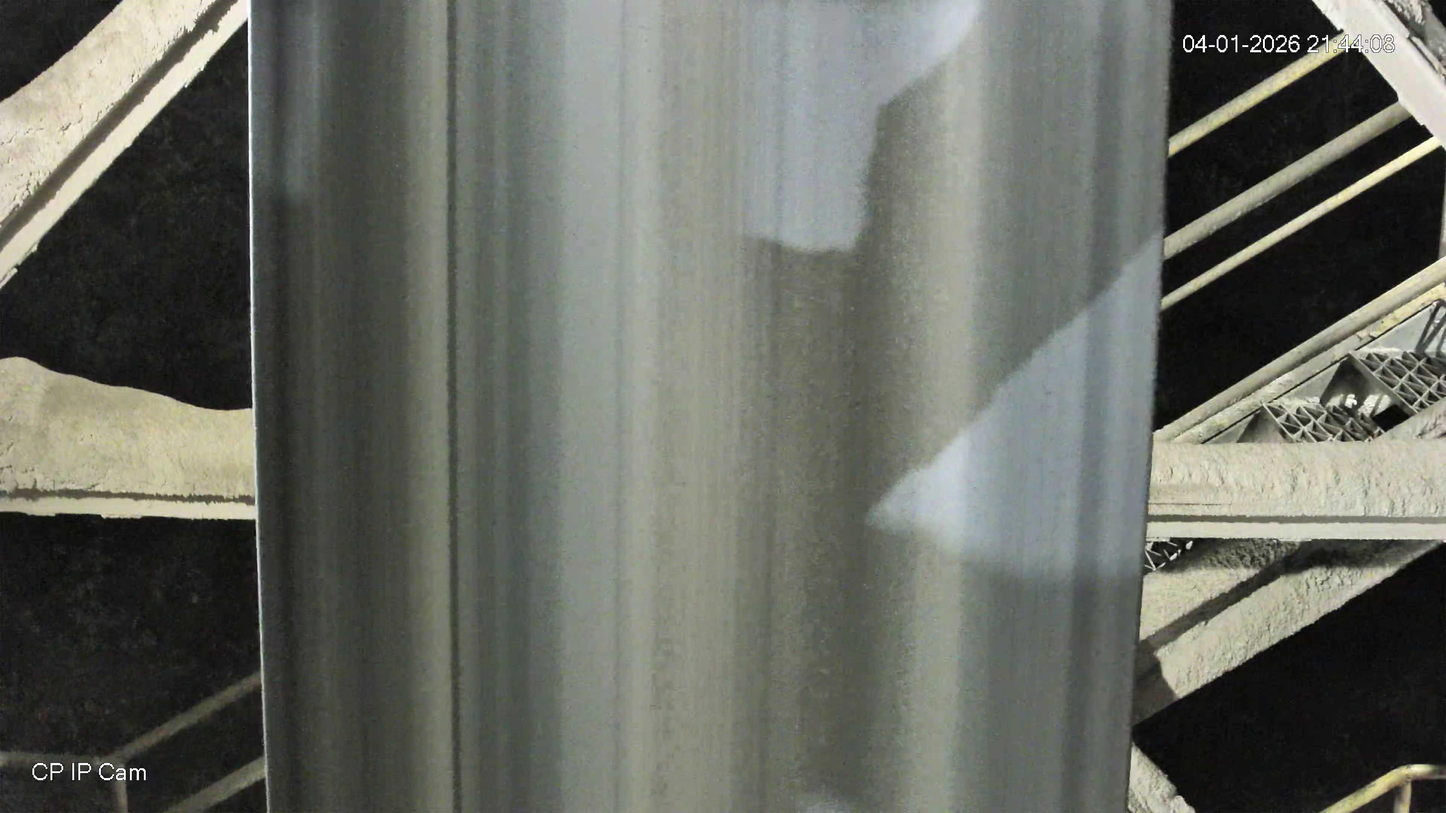belt_roi: (254, 0, 1171, 812)
